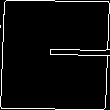L_W: (3, 39, 107, 71)
